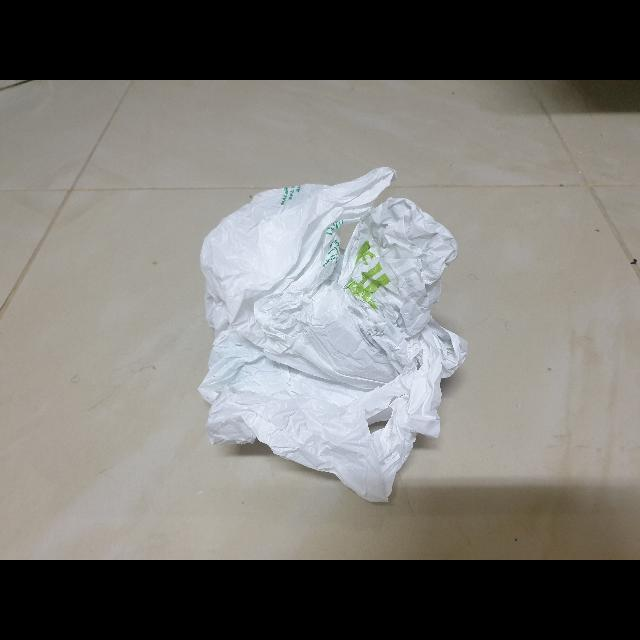plastic_bag: (180, 160, 478, 510)
